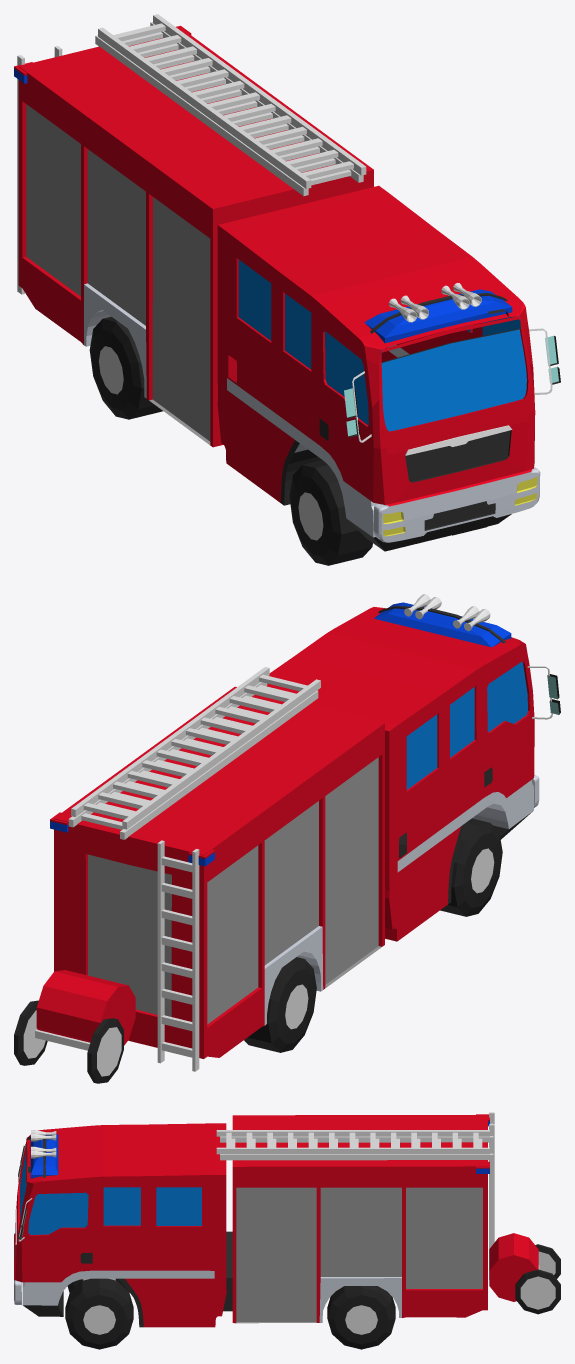
Rendered from Feuerwehr_HLF.glb.
The picture shows the model from 3 angles, top to bottom: view 1: azimuth 30°, elevation 25°; view 2: azimuth 150°, elevation 25°; view 3: azimuth 270°, elevation 25°; orthographic projection. The views are drawn at different scales.
Parts seen in each view (by area): view 1: Karosserie, Steckleiter2, Steckleiter1, Vorderachse, Hinterachse, Blaulicht_Vorne, Spiegel, Martinshorn; view 2: Karosserie, Steckleiter2, Schlauchwagen, Dachleiter, Steckleiter1, Hinterachse, Vorderachse, Blaulicht_Vorne, Martinshorn; view 3: Karosserie, Steckleiter2, Schlauchwagen, Vorderachse, Hinterachse, Steckleiter1, Blaulicht_Vorne, Dachleiter, Fahrgestell, Martinshorn.
Part boxes in pixels (x1,y1,x2,y2): Karosserie: (18,27,540,551); Steckleiter2: (98,14,366,188); Steckleiter1: (95,22,363,196); Vorderachse: (289,460,486,565); Hinterachse: (89,316,162,419); Blaulicht_Vorne: (364,289,512,343); Spiegel: (344,328,560,442); Martinshorn: (389,283,481,322); Karosserie: (54,607,539,1058); Steckleiter2: (71,667,320,829); Schlauchwagen: (14,970,135,1083); Dachleiter: (157,840,199,1071); Steckleiter1: (68,682,318,839); Hinterachse: (244,957,316,1052); Vorderachse: (440,818,502,916); Blaulicht_Vorne: (374,602,511,647); Martinshorn: (404,594,490,631); Karosserie: (14,1115,487,1327); Steckleiter2: (216,1130,489,1154); Schlauchwagen: (489,1233,560,1314); Vorderachse: (65,1278,133,1349); Hinterachse: (327,1286,395,1349); Steckleiter1: (220,1136,493,1160); Blaulicht_Vorne: (30,1134,58,1178); Dachleiter: (489,1112,494,1279); Fahrgestell: (223,1231,232,1311); Martinshorn: (31,1130,56,1158).
Size of the model in its own units: 2.23 by 2.99 by 7.63.
